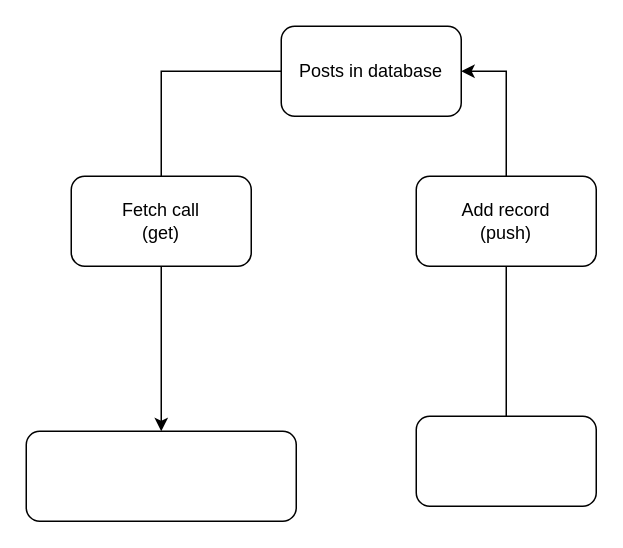
Some shapes in this 623 by 548 pixel diagram are drawn without their labels. The centre of each missing label's shape, as x and y in pixels:
Add record component: point (505, 460)
posts.map(components) Landing Page: point (160, 475)
